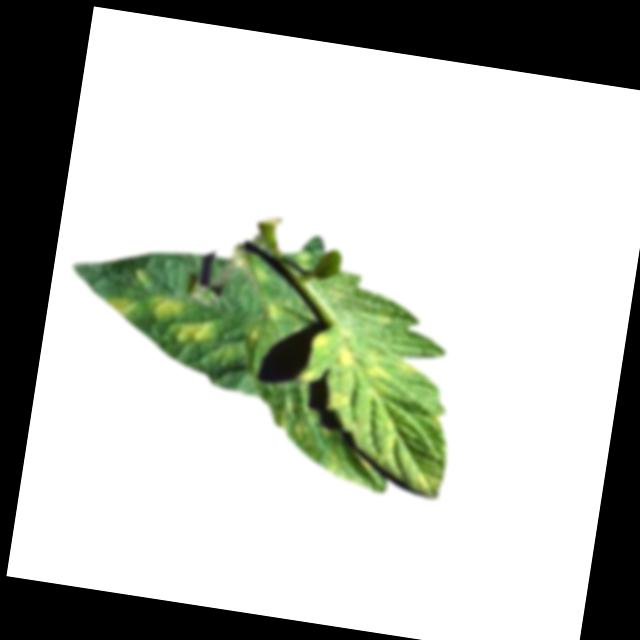Leaf_Mold: (322, 337, 421, 423), (141, 293, 216, 351), (96, 290, 130, 318), (304, 330, 330, 358)
